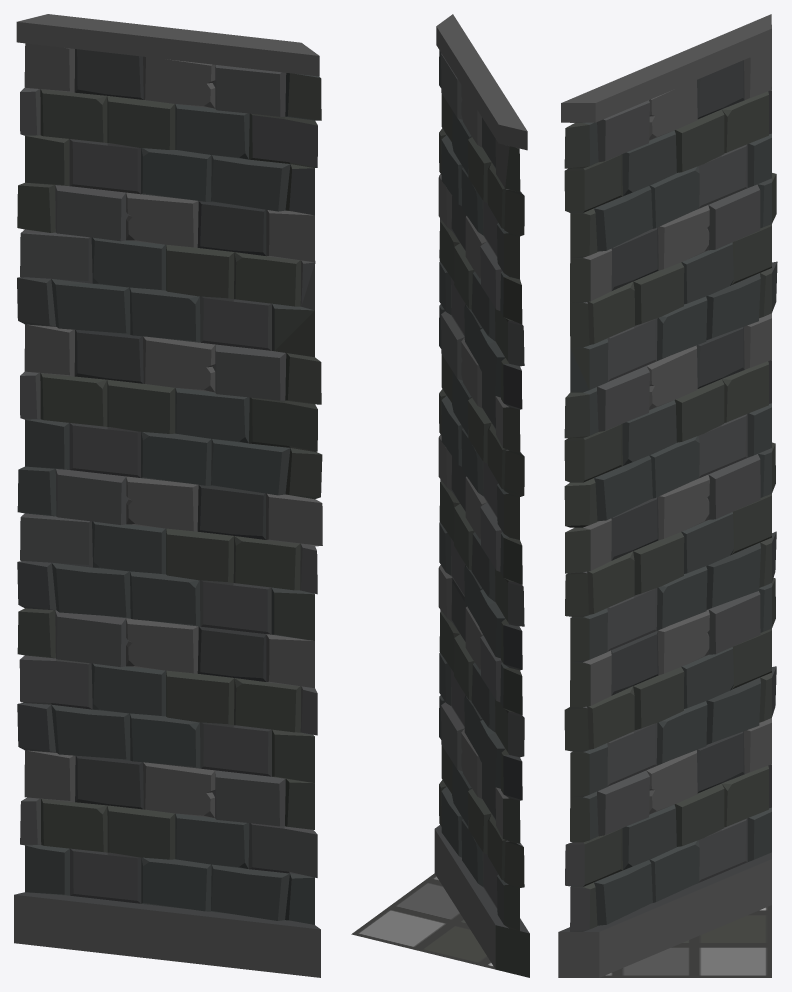
Rendered from Dungeon_Tilemap_11.fbx.
3 views of the same model, side by side, from view 1: azimuth 30°, elevation 25°; view 2: azimuth 150°, elevation 25°; view 3: azimuth 270°, elevation 25° (orthographic). The views are drawn at different scales.
Visible parts, largest first — view 1: Dungeon_Tilemap_11; view 2: Dungeon_Tilemap_11; view 3: Dungeon_Tilemap_11.
Part boxes in pixels (x1=…): Dungeon_Tilemap_11: x1=14, y1=14, x2=322, y2=977; Dungeon_Tilemap_11: x1=351, y1=14, x2=529, y2=977; Dungeon_Tilemap_11: x1=558, y1=14, x2=777, y2=977.
Size of the model in its own units: 56.75 by 250 by 56.74.
2 materials, 2 textured.
